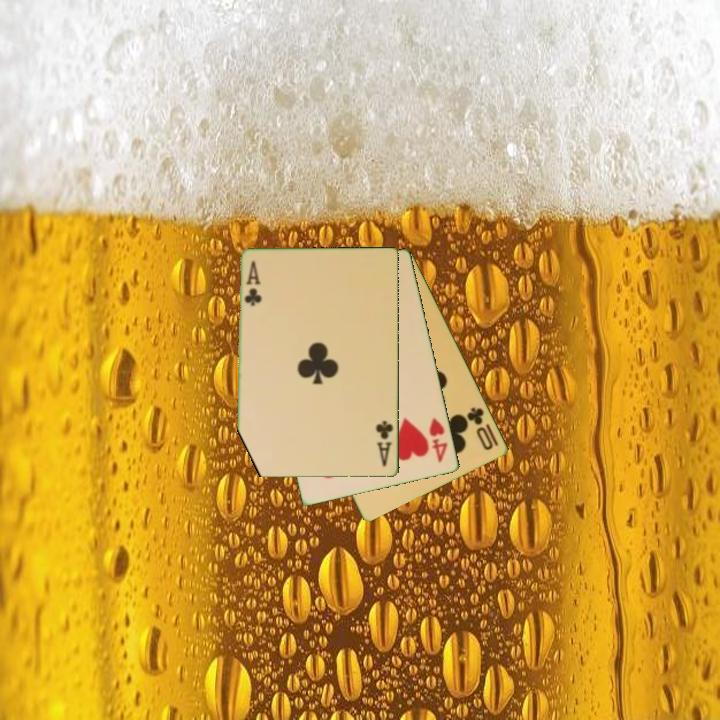10c: (464, 404, 497, 453)
4h: (426, 414, 451, 466)
Ac: (373, 418, 396, 469), (241, 257, 263, 309)
